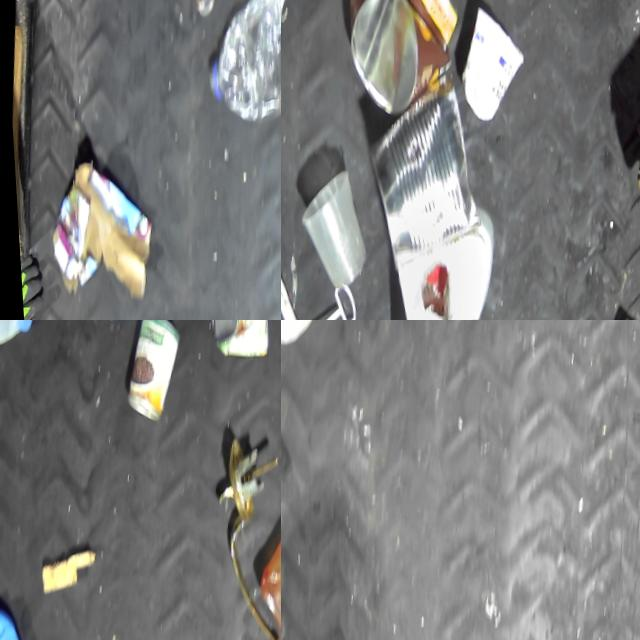can: (351, 79, 489, 277), (332, 0, 463, 119), (117, 320, 185, 426), (204, 320, 274, 363)
non_white_jug: (241, 466, 281, 640)
plastic_bottle: (196, 0, 281, 132)
